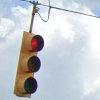traffic lights: (13, 31, 44, 99)
